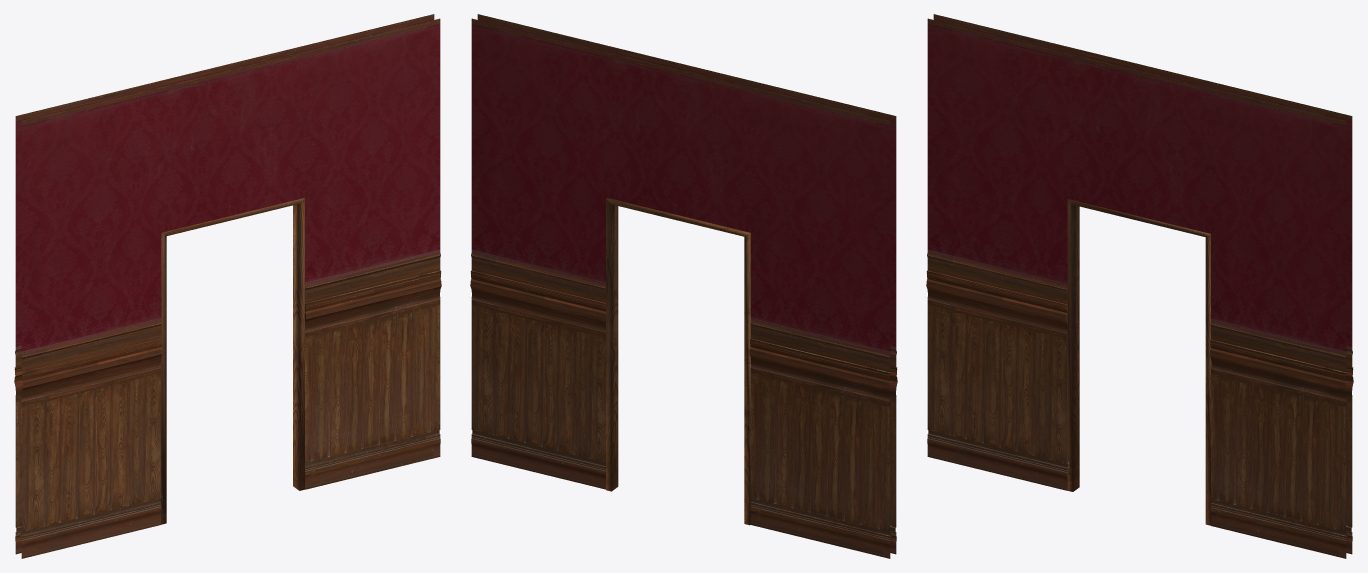
File: Wall_Door.fbx
3 renders of one model, left to right at view 1: azimuth 30°, elevation 25°; view 2: azimuth 150°, elevation 25°; view 3: azimuth 330°, elevation 25°, orthographic.
Parts seen in each view (by area): view 1: Wall_Door; view 2: Wall_Door; view 3: Wall_Door.
Boxes of the visible parts, x1,y1,x2,y2 form: Wall_Door: [14, 14, 441, 558]; Wall_Door: [470, 14, 897, 558]; Wall_Door: [926, 14, 1353, 558].
Bounding box in the file's own units: 200 × 200 × 6.97.
